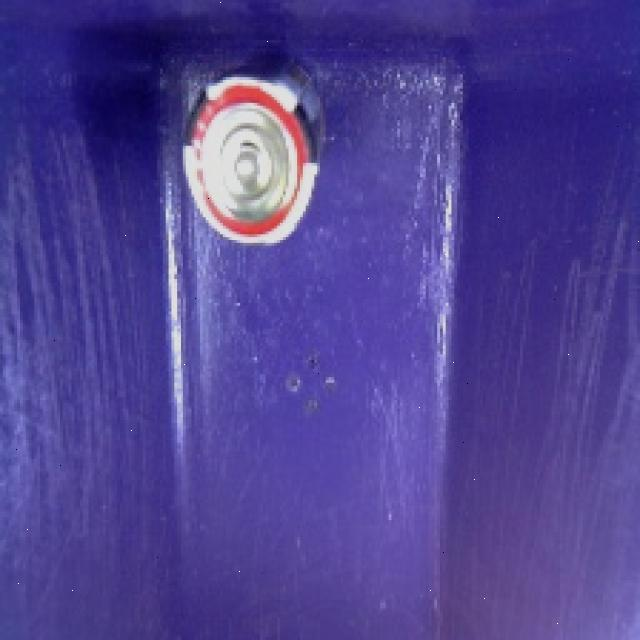battery: (177, 38, 336, 256)
